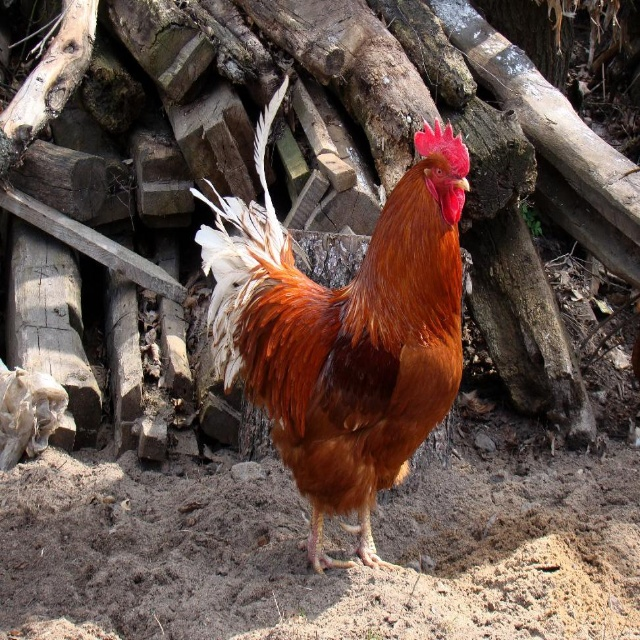Chicken: (189, 74, 470, 578)
